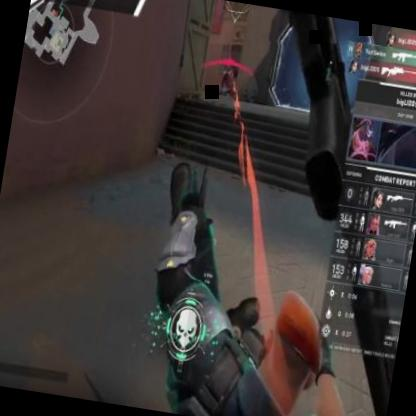enemy: (218, 53, 234, 98)
enemy_head: (225, 54, 232, 66)
